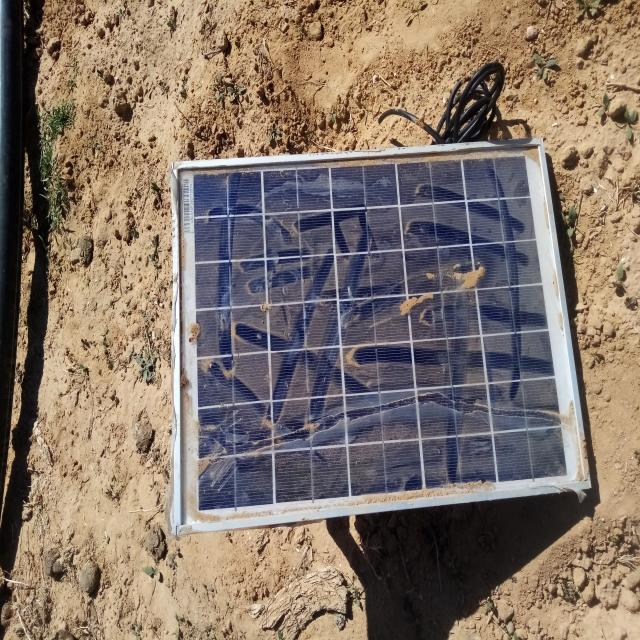faulty: (174, 142, 587, 532)
